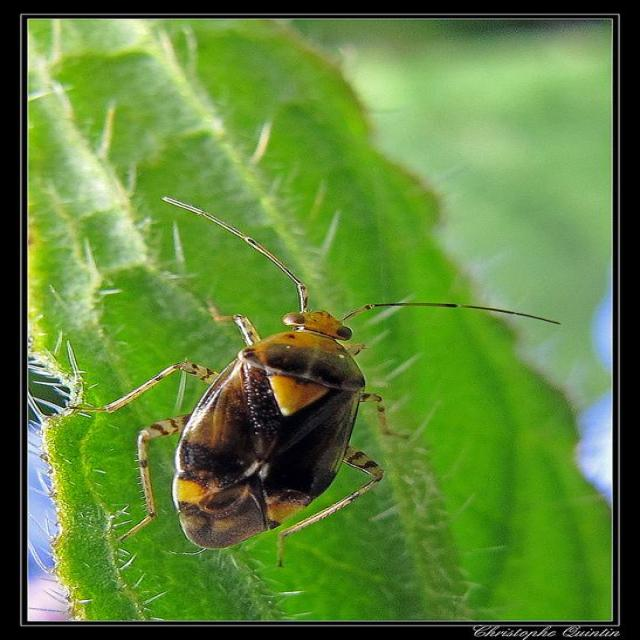Miridae-Adult-: (109, 185, 562, 554)
